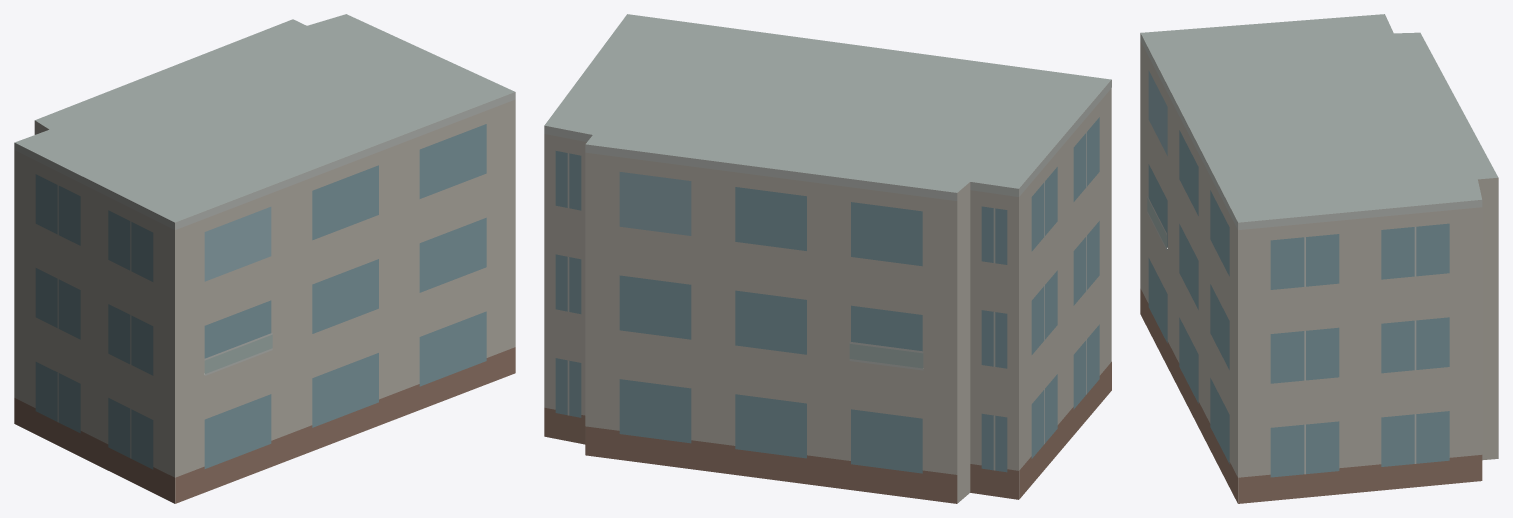
File: survey-upis-32752363.glb
3 renders of one model, left to right at view 1: azimuth 30°, elevation 25°; view 2: azimuth 150°, elevation 25°; view 3: azimuth 270°, elevation 25°, orthographic. The views are drawn at different scales.
Parts seen in each view (by area): view 1: survey-upis-32752363.tmp; view 2: survey-upis-32752363.tmp; view 3: survey-upis-32752363.tmp.
Boxes of the visible parts, <box> form: survey-upis-32752363.tmp: <box>14,14,515,503</box>; survey-upis-32752363.tmp: <box>544,14,1111,503</box>; survey-upis-32752363.tmp: <box>1140,14,1498,503</box>.
Size of the model in its own units: 14.57 by 9.15 by 10.57.
